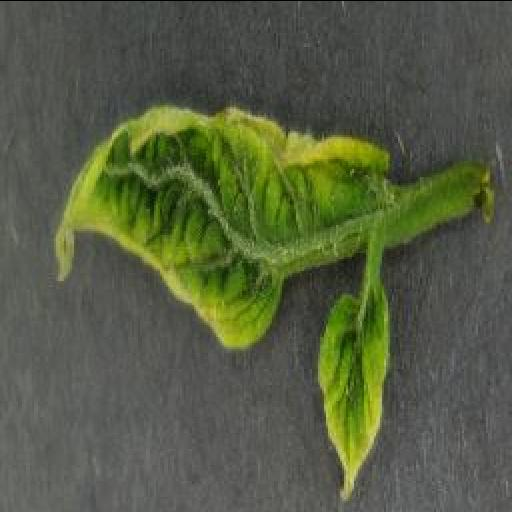disease_tomato: (53, 104, 395, 352), (318, 286, 394, 502)
